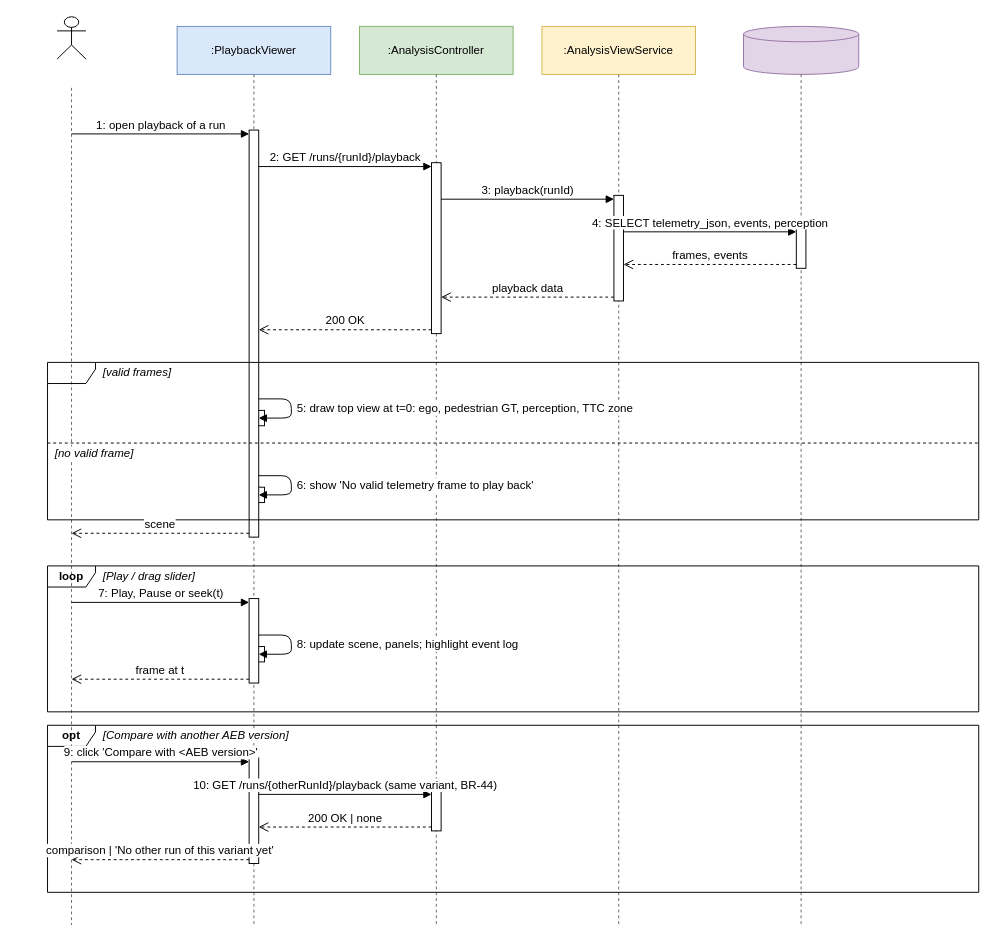
The diagram is 996 pixels wide and 943 high, and some of its shapes have lost their labels. Each missing label, with the box of its shape:
alt: (47, 361, 979, 520)
Engineer / Reviewer / Experiencer: (56, 16, 86, 59)
MySQL: (743, 25, 859, 74)
